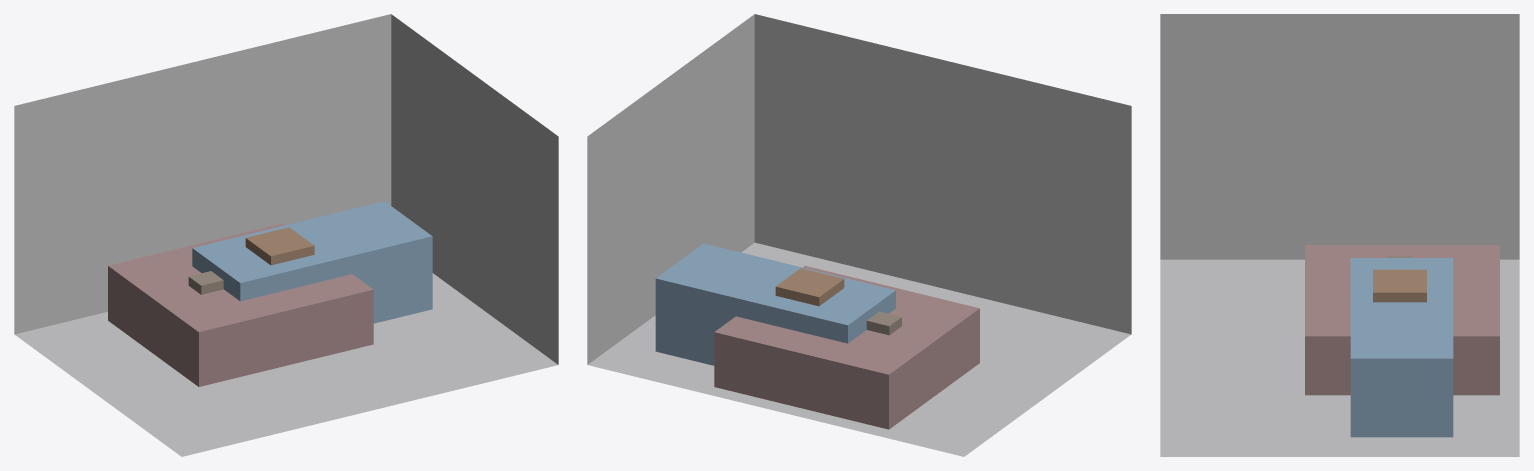
File: optimised_layout.glb
3 views of the same model, side by side, from view 1: azimuth 30°, elevation 25°; view 2: azimuth 150°, elevation 25°; view 3: azimuth 270°, elevation 25° (orthographic). The views are drawn at different scales.
Parts seen in each view (by area): view 1: room, bed, couch, chair, suitcase; view 2: room, bed, couch, chair, suitcase; view 3: room, couch, bed, chair.
Boxes of the visible parts, <box> form: room: <box>14,14,558,456</box>; bed: <box>108,223,373,386</box>; couch: <box>192,201,432,323</box>; chair: <box>245,227,314,265</box>; suitcase: <box>188,271,223,294</box>; room: <box>587,14,1131,456</box>; bed: <box>714,265,979,429</box>; couch: <box>655,243,895,365</box>; chair: <box>775,268,844,306</box>; suitcase: <box>866,311,901,335</box>; room: <box>1160,14,1519,456</box>; couch: <box>1350,258,1453,437</box>; bed: <box>1305,245,1499,395</box>; chair: <box>1373,269,1426,302</box>.
Size of the model in its own units: 4.31 by 2.5 by 3.32.
